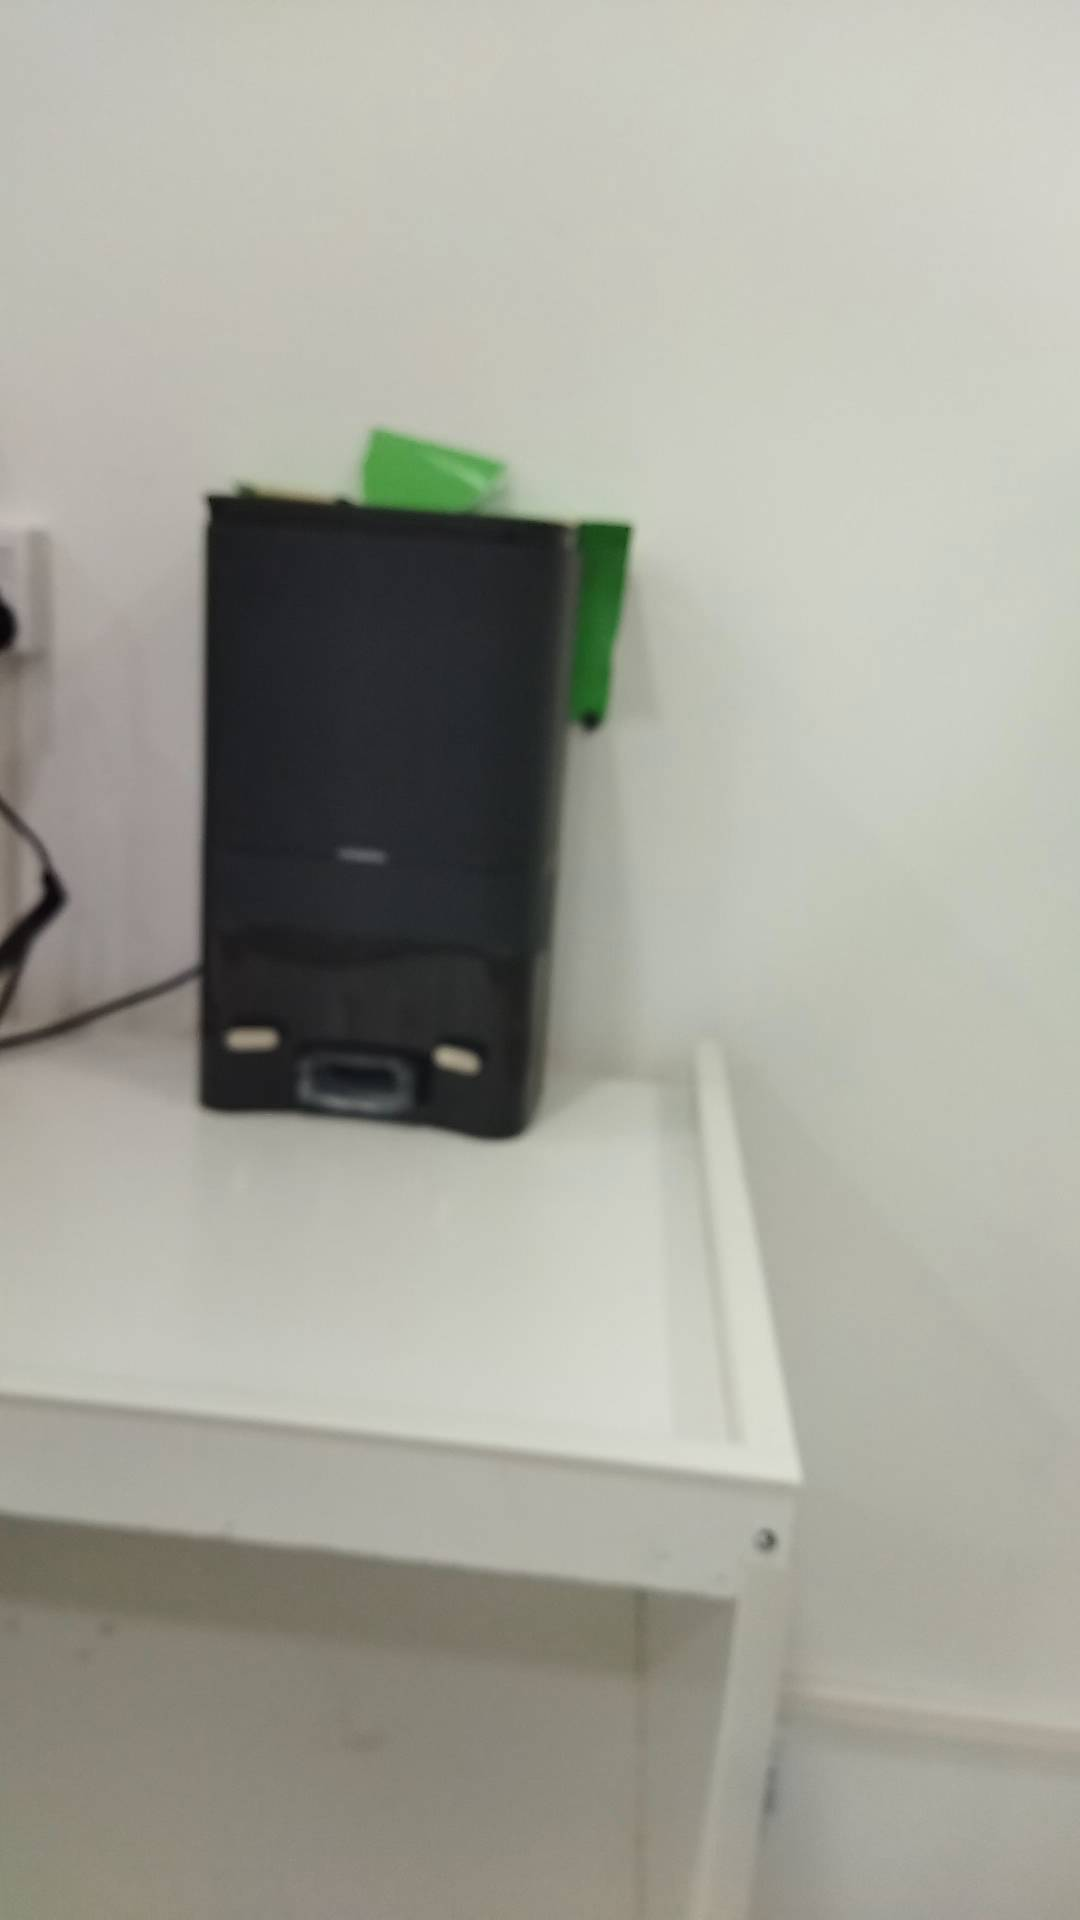dust collecting barrel: (200, 495, 583, 1141)
